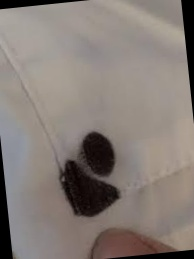ink: (64, 160, 122, 221), (84, 132, 117, 176)
